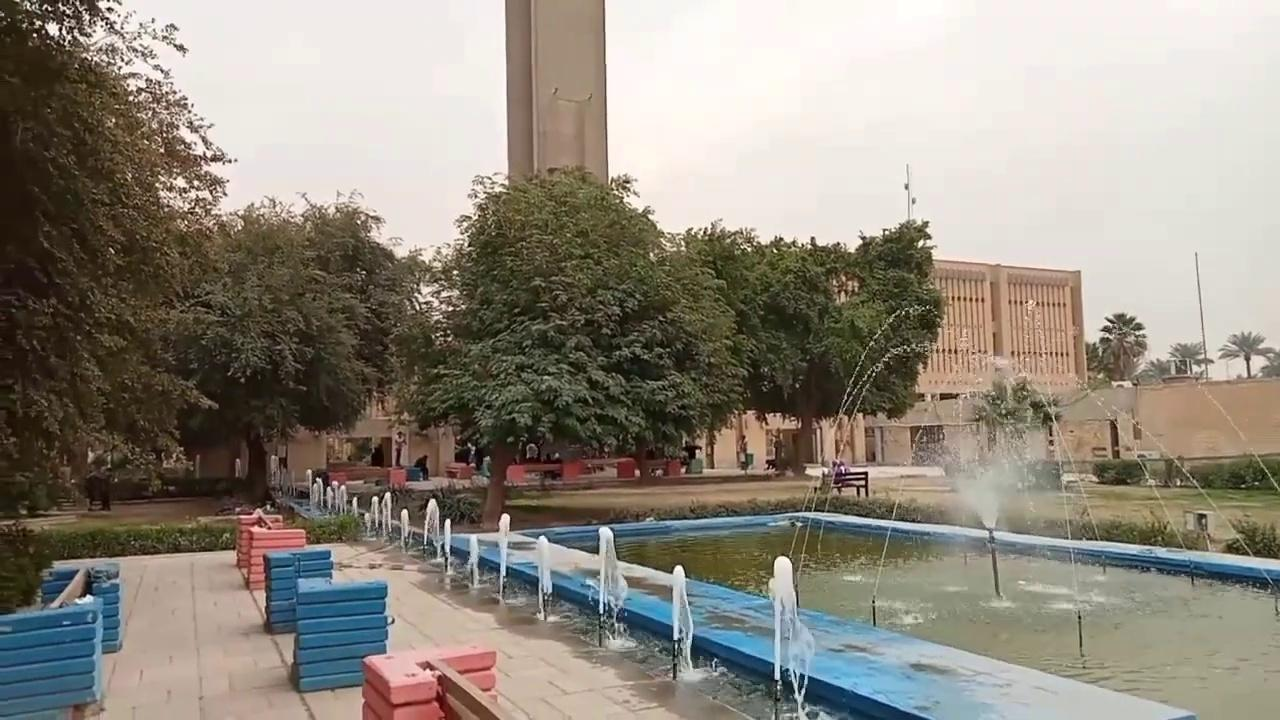fountain: (255, 306, 1277, 717), (765, 553, 815, 717), (667, 563, 725, 682), (587, 525, 637, 650)
person: (830, 458, 847, 495), (393, 430, 406, 466), (737, 434, 748, 472), (413, 454, 429, 480), (370, 443, 383, 467), (480, 455, 491, 477)
tree: (390, 162, 747, 529), (0, 0, 236, 513), (159, 187, 423, 509), (747, 216, 945, 474), (290, 188, 437, 471), (677, 219, 831, 471), (968, 371, 1061, 479), (1095, 311, 1147, 381), (1217, 329, 1271, 377), (1166, 340, 1212, 376), (1084, 339, 1104, 377), (1259, 346, 1279, 377)
